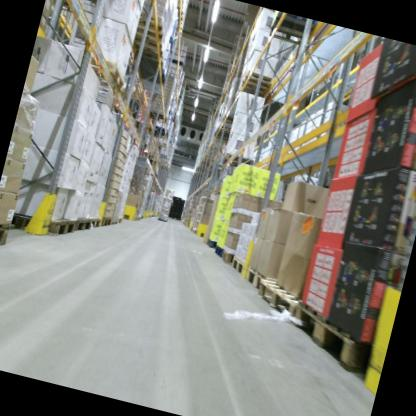pallet: (283, 295, 380, 376), (240, 262, 305, 324), (4, 202, 76, 247), (82, 54, 132, 91), (127, 9, 173, 49), (266, 11, 317, 46), (123, 32, 171, 68), (239, 66, 278, 99), (220, 152, 257, 176), (72, 214, 93, 239), (230, 252, 249, 275), (217, 113, 238, 131), (220, 246, 236, 267), (0, 221, 10, 253), (211, 241, 224, 259), (89, 215, 102, 232), (98, 212, 112, 227), (108, 217, 119, 228), (117, 216, 123, 224)
